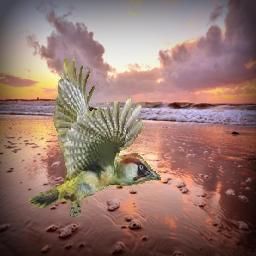Woodpecker: (28, 55, 163, 218)
